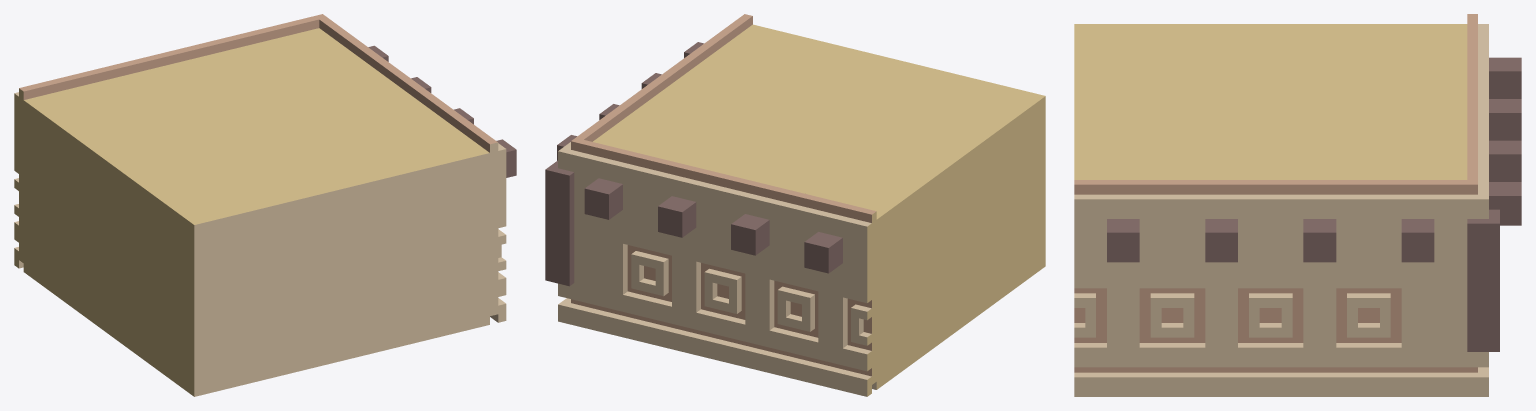
The model's file is BS_Block_Base_Edge.fbx.
The picture shows the model from 3 angles, left to right: view 1: azimuth 30°, elevation 25°; view 2: azimuth 150°, elevation 25°; view 3: azimuth 270°, elevation 25°; orthographic projection. The views are drawn at different scales.
Visible parts, largest first — view 1: BS_Block_Base_Edge; view 2: BS_Block_Base_Edge; view 3: BS_Block_Base_Edge.
Boxes of the visible parts, x1,y1,x2,y2 form: BS_Block_Base_Edge: (14,14,516,396); BS_Block_Base_Edge: (545,14,1045,396); BS_Block_Base_Edge: (1074,14,1521,396).
Bounding box in the file's own units: 102 × 102 × 52.5.
